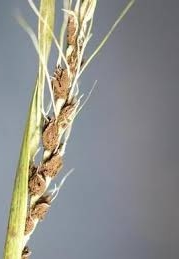Wheat Loose Smut: (26, 1, 105, 221)
